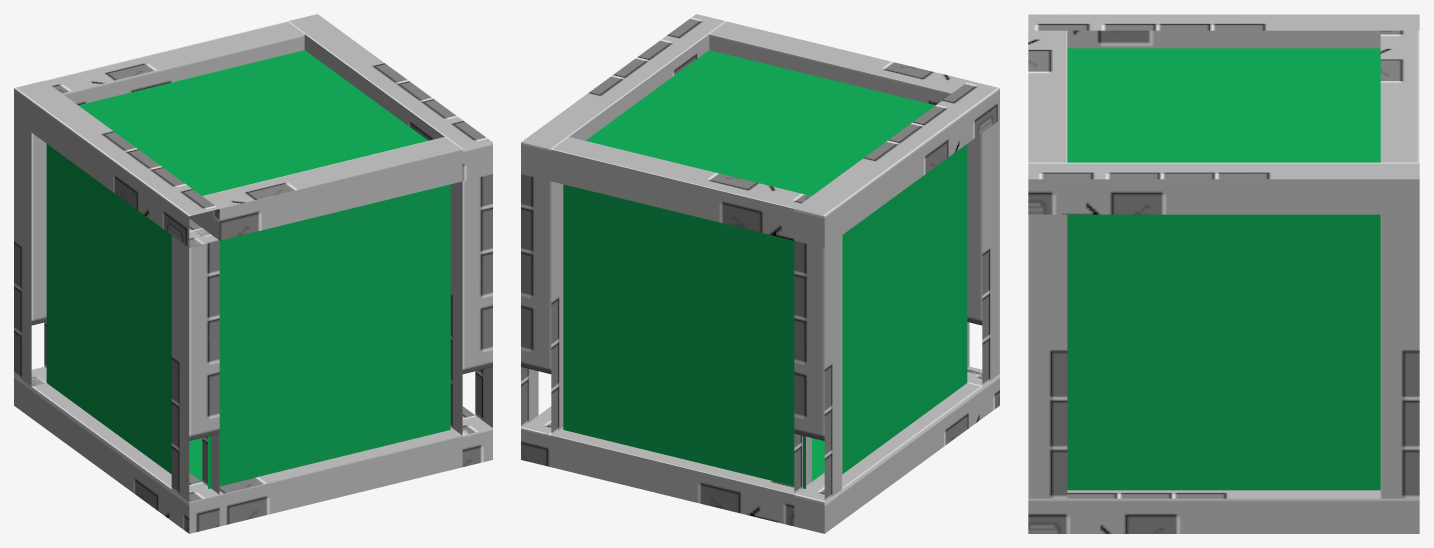
File: dimensionalcell.obj
3 renders of one model, left to right at view 1: azimuth 30°, elevation 25°; view 2: azimuth 150°, elevation 25°; view 3: azimuth 270°, elevation 25°, orthographic. The views are drawn at different scales.
Parts seen in each view (by area): view 1: Cube.001_Cube.000; view 2: Cube.001_Cube.000; view 3: Cube.001_Cube.000.
Boxes of the visible parts, x1=… form: Cube.001_Cube.000: x1=14, y1=14, x2=492, y2=533; Cube.001_Cube.000: x1=521, y1=14, x2=999, y2=533; Cube.001_Cube.000: x1=1028, y1=14, x2=1419, y2=533.
Size of the model in its own units: 1 by 1 by 1.
